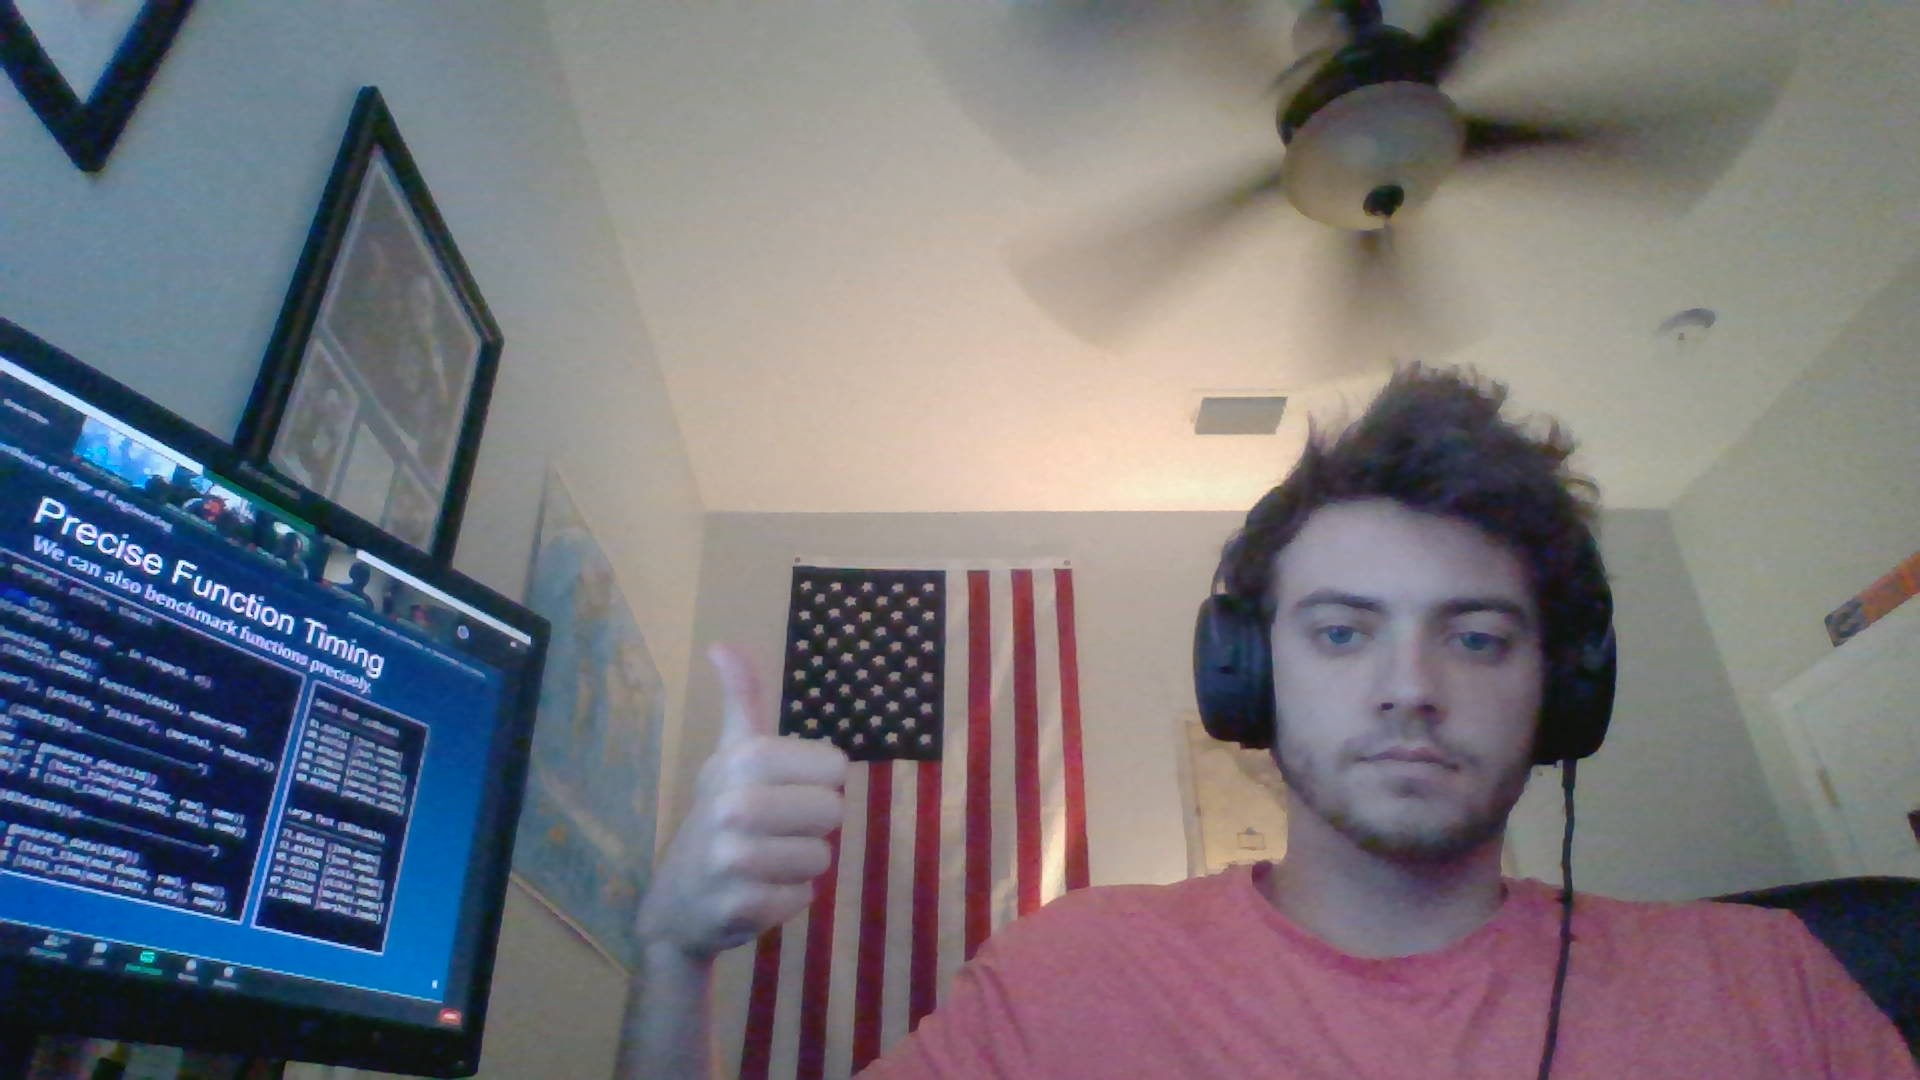Right Thumb Up: (613, 630, 874, 953)
